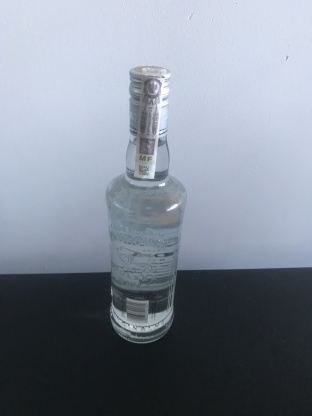nakretka: (126, 62, 172, 141)
